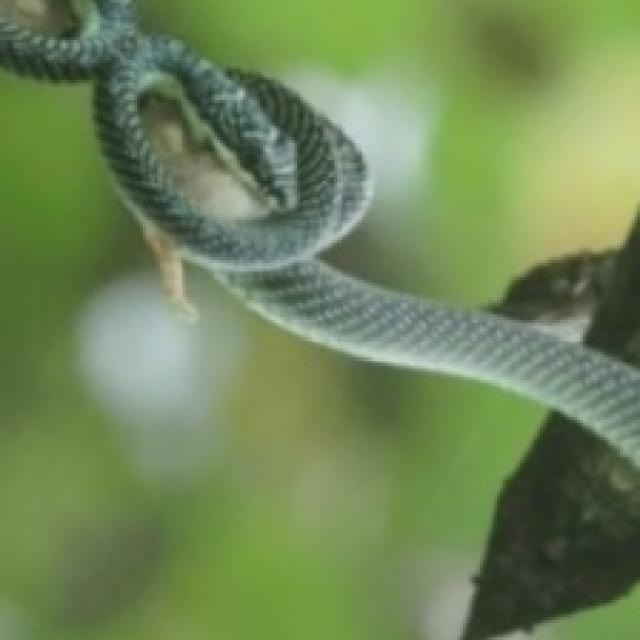paradise tree snake: (0, 71, 543, 637), (140, 0, 637, 306), (480, 583, 637, 637)
